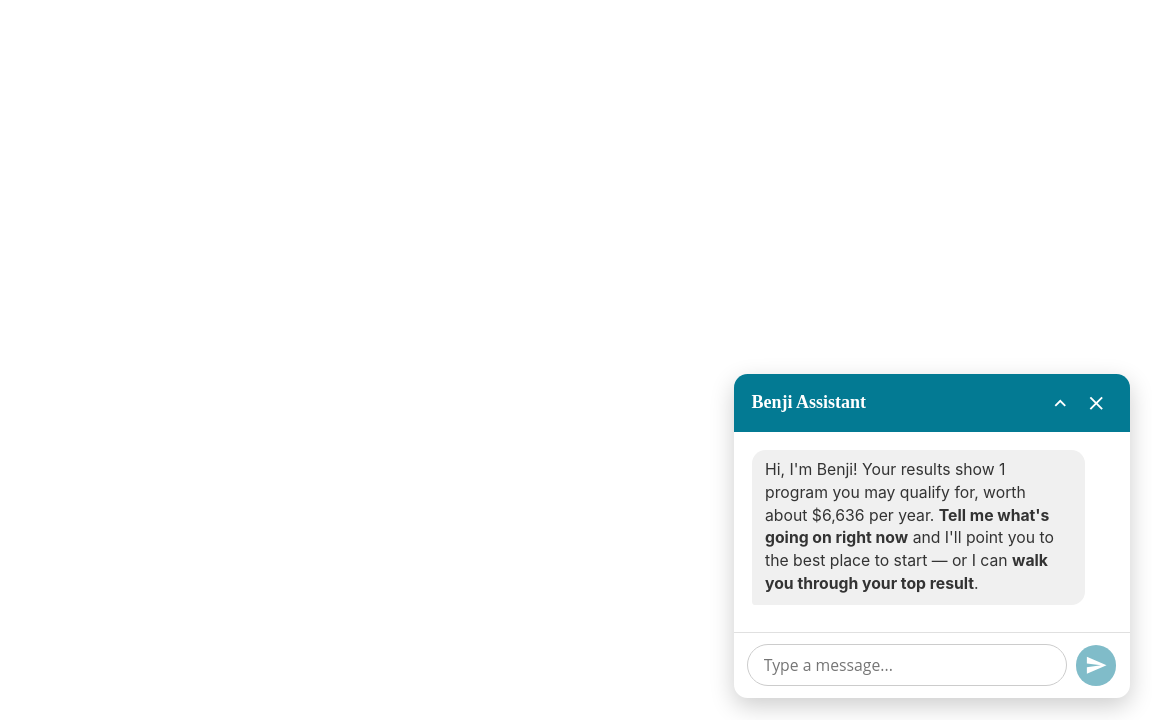
it: greeting bubble and privacy notice › withholds the notice in peek, where typing is impossible, and shows it on expand
Focus the field at (907, 665), box top-left (747, 644), bottom-right (1066, 686)
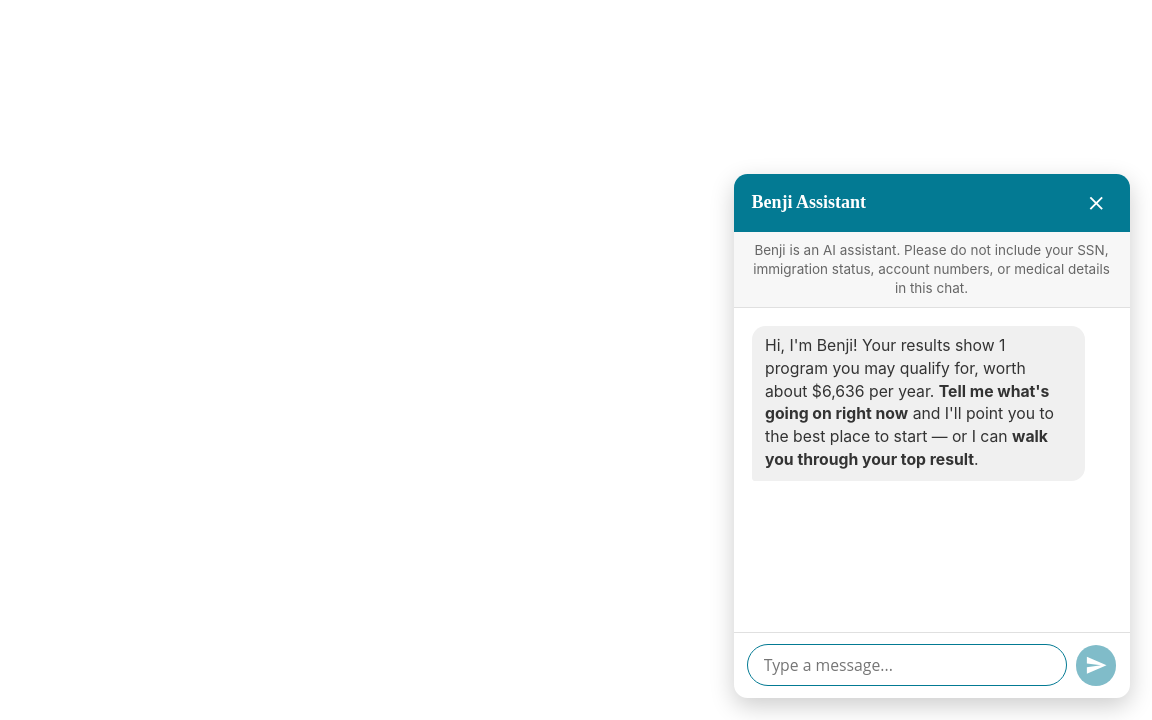
Expected: the text "do not include your SSN" is shown, top-left (753, 242), bottom-right (1110, 296)
